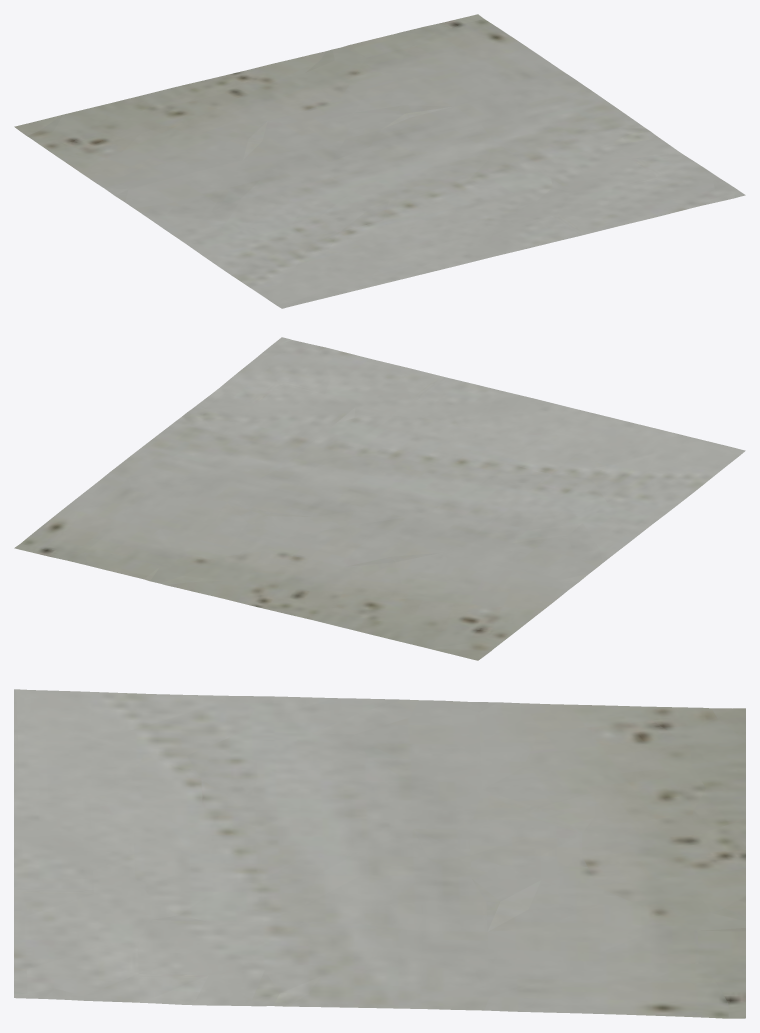
3 renders of one model, top to bottom at view 1: azimuth 30°, elevation 25°; view 2: azimuth 150°, elevation 25°; view 3: azimuth 270°, elevation 25°, orthographic. The views are drawn at different scales.
Bounding box in the file's own units: 52.22 × 1.67 × 52.22.
Materials: 2 (2 with a texture image).
